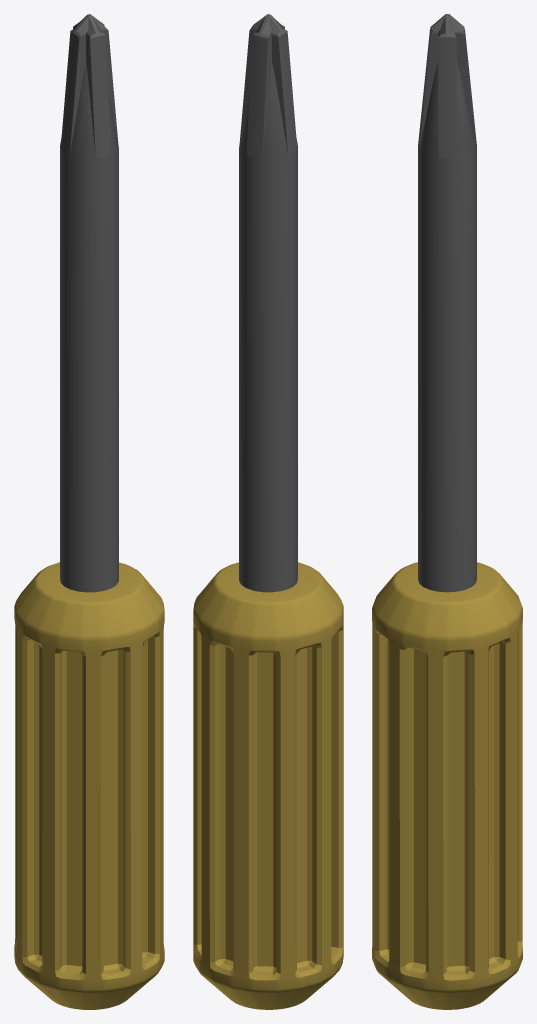
File: screwdriver.fbx
3 views of the same model, side by side, from view 1: azimuth 30°, elevation 25°; view 2: azimuth 150°, elevation 25°; view 3: azimuth 270°, elevation 25° (orthographic).
Visible parts, largest first — view 1: Screwdriver; view 2: Screwdriver; view 3: Screwdriver.
Part boxes in pixels (x1,y1,x2,y2): Screwdriver: (14,14,164,1009); Screwdriver: (193,14,343,1009); Screwdriver: (372,14,522,1009).
Size of the model in its own units: 5.1 by 36.58 by 5.1.
